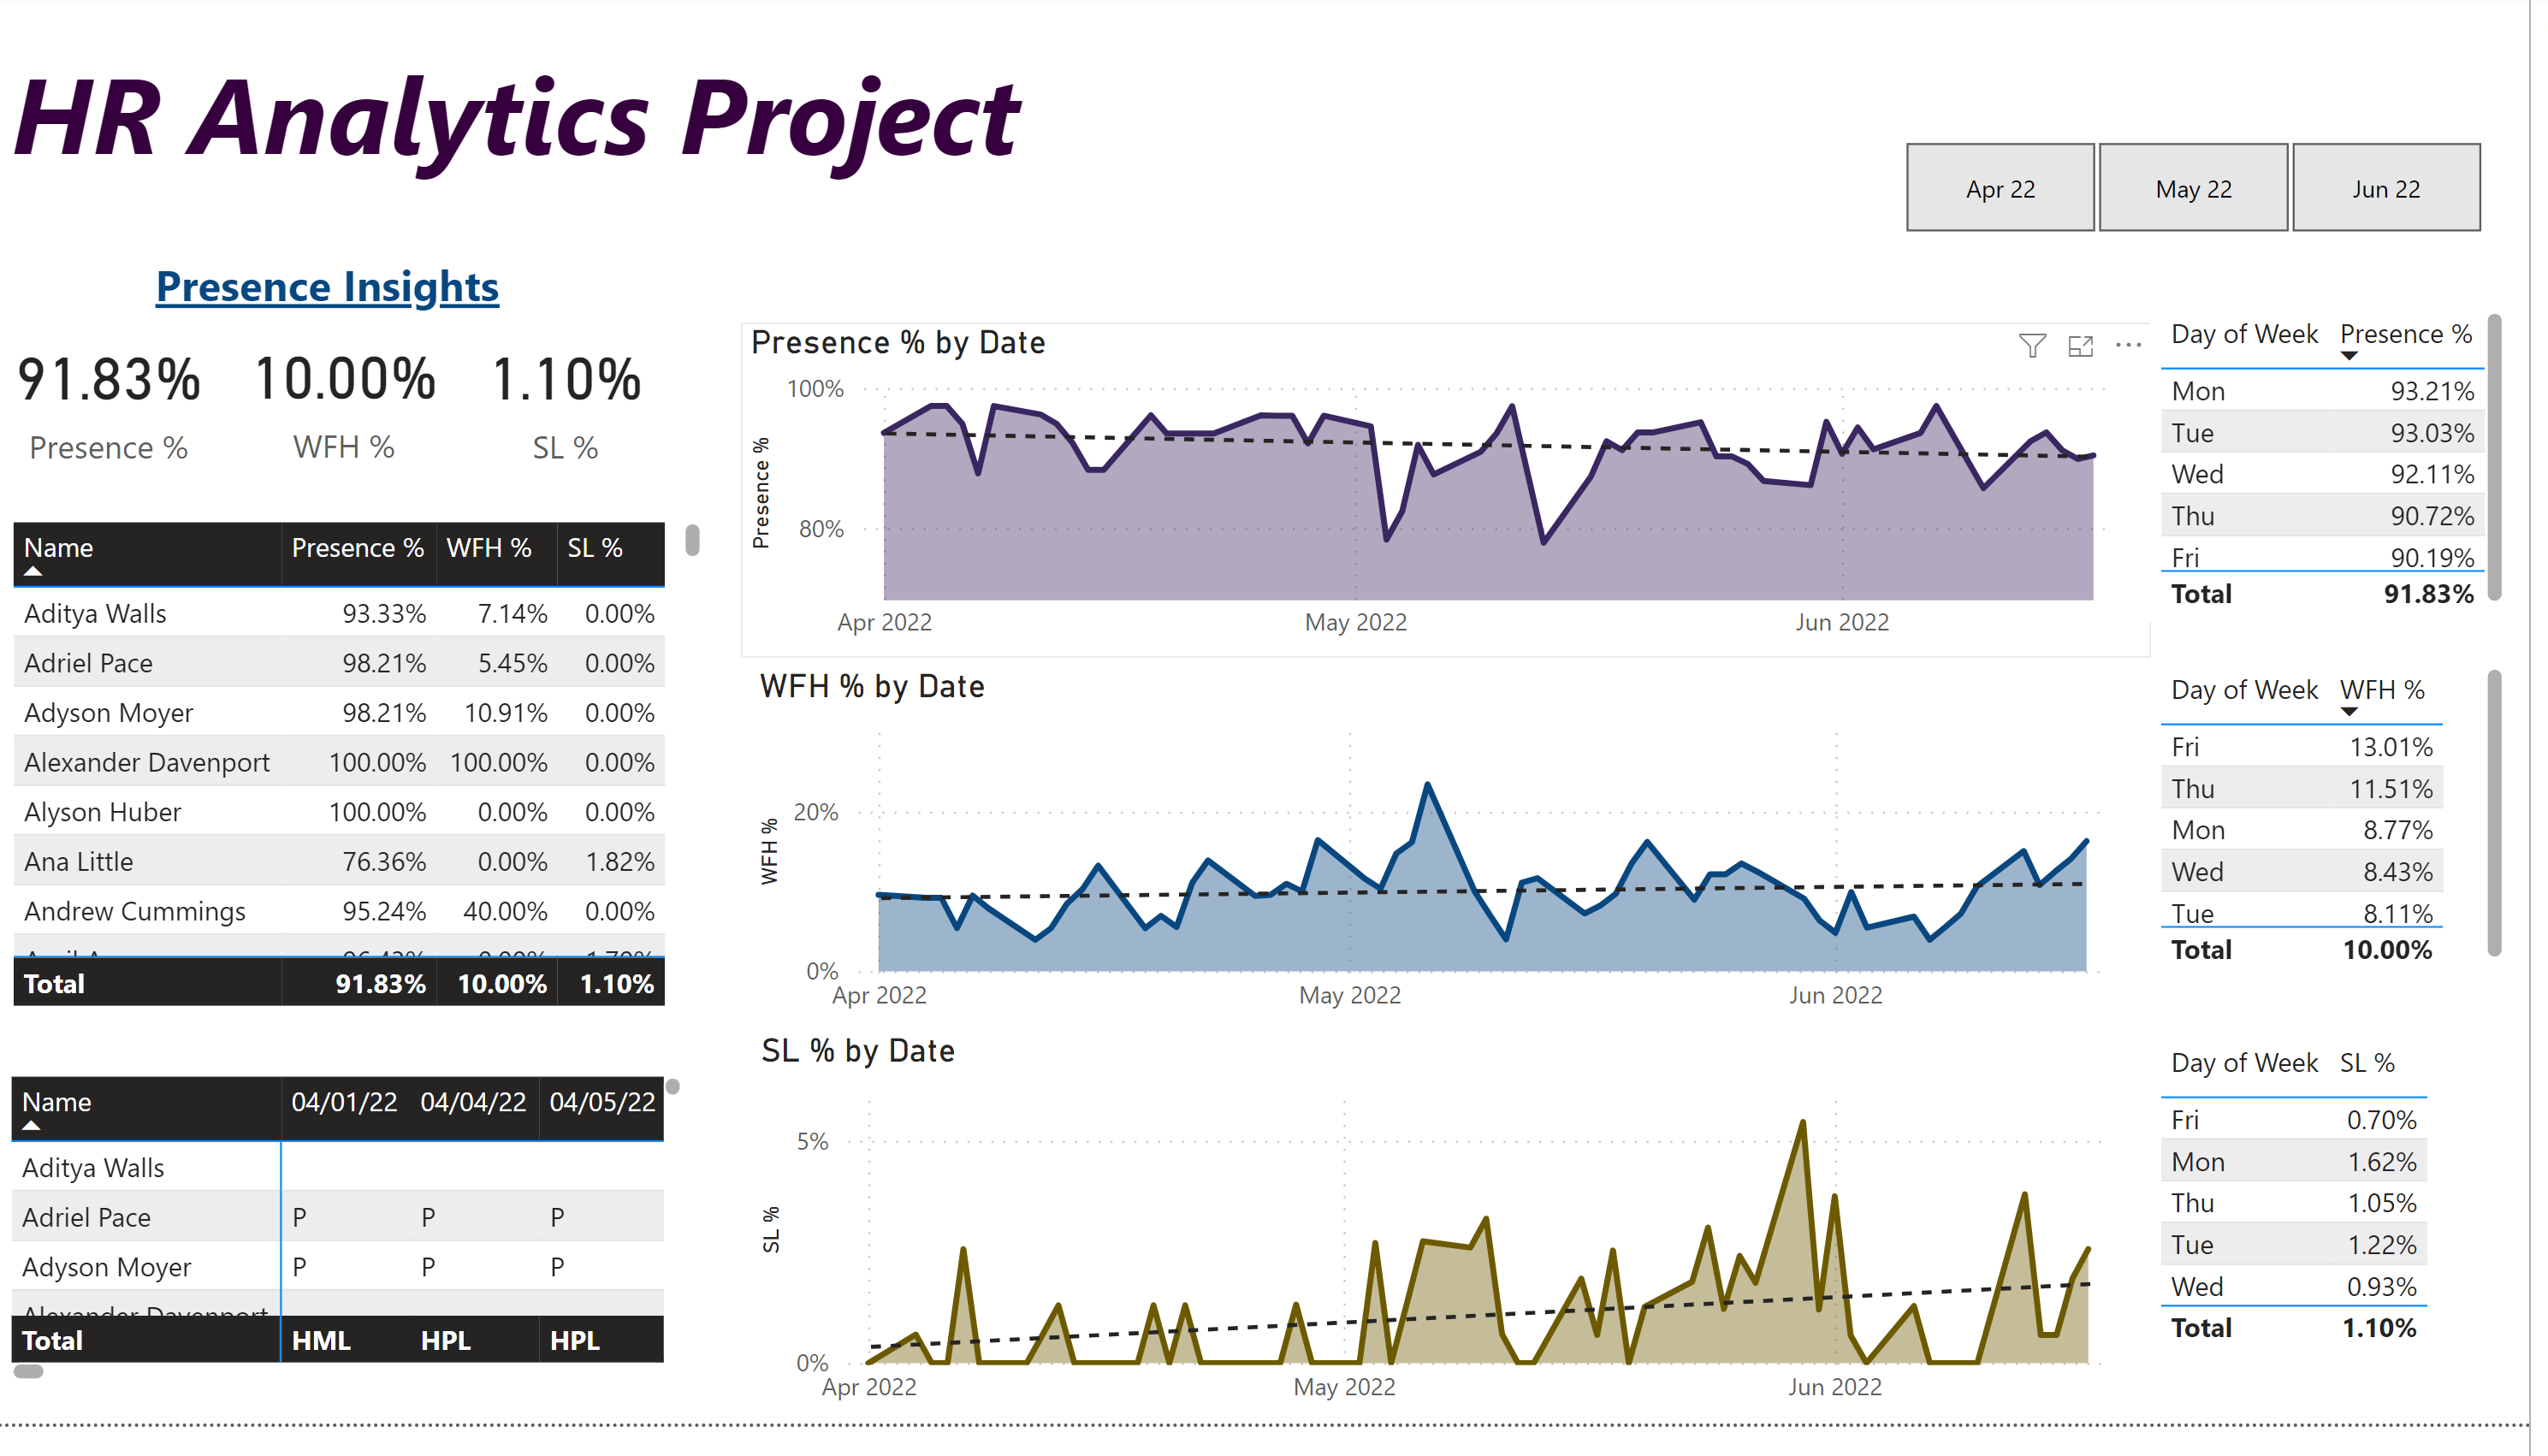

The dashboard page shown, as its layout file describes it:
{"tool":"powerbi","page":{"name":"Page 1","canvas":[1280,720],"ordinal":0},"visuals":[{"type":"card","fields":{"Values":["Measure Table.Presence %"]},"box":[0,155.2,121.5,94.8],"z":4},{"type":"slicer","fields":{"Values":["Final Data.Month"]},"box":[940.4,68.1,339.6,58.6],"z":5},{"type":"card","fields":{"Values":["Measure Table.WFH %"]},"box":[121.5,154.3,115.5,95.7],"z":6},{"type":"card","fields":{"Values":["Measure Table.SL %"]},"box":[237,155.2,107.7,94.8],"z":7},{"type":"tableEx","fields":{"Values":["Final Data.Name","Measure Table.Presence %","Measure Table.WFH %","Measure Table.SL %"]},"box":[6.9,261.2,357.7,253.4],"z":8},{"type":"textbox","box":[79.3,126.7,199.1,38.8],"z":9},{"type":"pivotTable","fields":{"Rows":["Final Data.Name"],"Values":["Final Data.Value"],"Columns":["Final Data.Date"]},"box":[6.9,540.4,347.4,162.9],"z":10},{"type":"areaChart","fields":{"Category":["Final Data.Date"],"Y":["Measure Table.Presence %"]},"box":[379.3,165.5,710.2,168.9],"z":11},{"type":"areaChart","fields":{"Category":["Final Data.Date"],"Y":["Measure Table.WFH %"]},"box":[383.6,338.7,702.5,183.6],"z":12},{"type":"areaChart","fields":{"Category":["Final Data.Date"],"Y":["Measure Table.SL %"]},"box":[384.4,522.3,702.5,197.4],"z":13},{"type":"tableEx","fields":{"Values":["Final Data.1 day of week","Measure Table.Presence %"]},"box":[1088.6,155.2,183.6,161.2],"z":14},{"type":"tableEx","fields":{"Values":["Final Data.1 day of week","Measure Table.WFH %"]},"box":[1088.6,334.4,183.6,161.2],"z":15},{"type":"tableEx","fields":{"Values":["Final Data.1 day of week","Measure Table.SL %"]},"box":[1088.6,522.3,183.6,168.9],"z":16},{"type":"textbox","box":[6.9,18.1,562,94],"z":17}]}

Visuals, with their boxes in screenshot pixels (x1, y1, x2, y2), scaled from the page's 1280x720 canvas onto the 2548x1456 screenshot:
card - Measure Table.Presence %: [0, 314, 242, 506]
slicer - Final Data.Month: [1872, 138, 2547, 257]
card - Measure Table.WFH %: [242, 312, 471, 506]
card - Measure Table.SL %: [471, 314, 686, 506]
tableEx - Final Data.Name x Measure Table.Presence %: [14, 528, 726, 1040]
textbox: [157, 257, 554, 334]
pivotTable - Final Data.Name x Final Data.Value: [14, 1092, 705, 1423]
areaChart - Final Data.Date x Measure Table.Presence %: [755, 334, 2169, 676]
areaChart - Final Data.Date x Measure Table.WFH %: [763, 685, 2162, 1056]
areaChart - Final Data.Date x Measure Table.SL %: [765, 1056, 2164, 1455]
tableEx - Final Data.1 day of week x Measure Table.Presence %: [2167, 314, 2533, 640]
tableEx - Final Data.1 day of week x Measure Table.WFH %: [2167, 676, 2533, 1003]
tableEx - Final Data.1 day of week x Measure Table.SL %: [2167, 1056, 2533, 1398]
textbox: [14, 37, 1133, 227]
